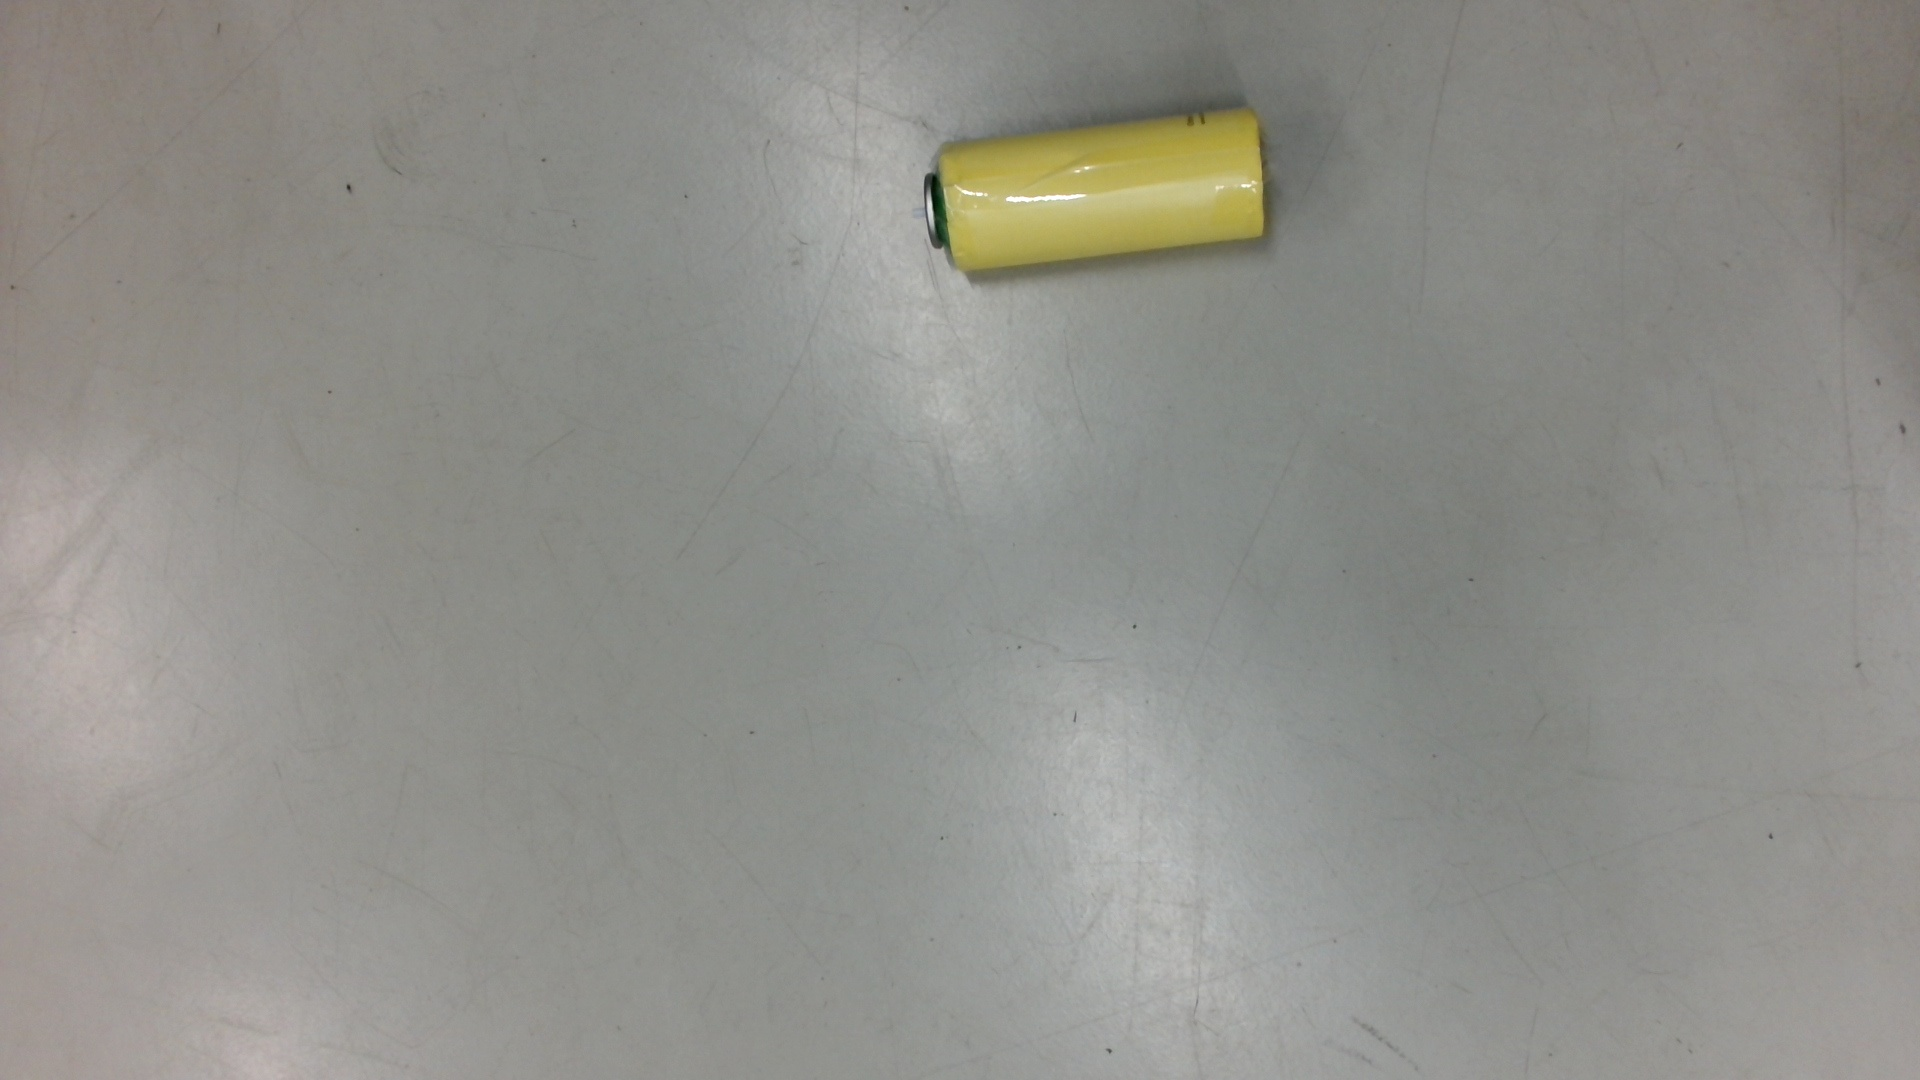Cylinder: (905, 98, 1284, 284)
